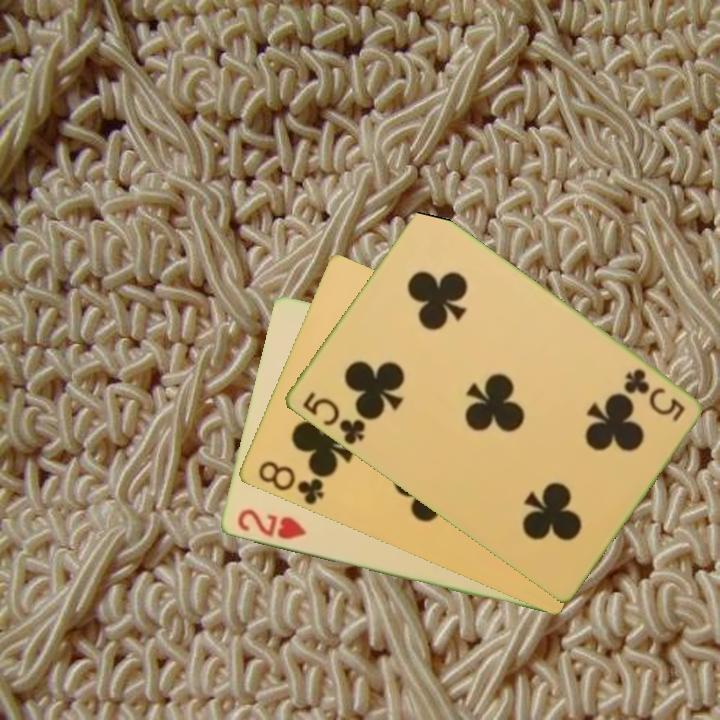2h: (233, 505, 310, 543)
5c: (298, 387, 368, 448), (619, 365, 688, 425)
8c: (254, 457, 326, 508)
